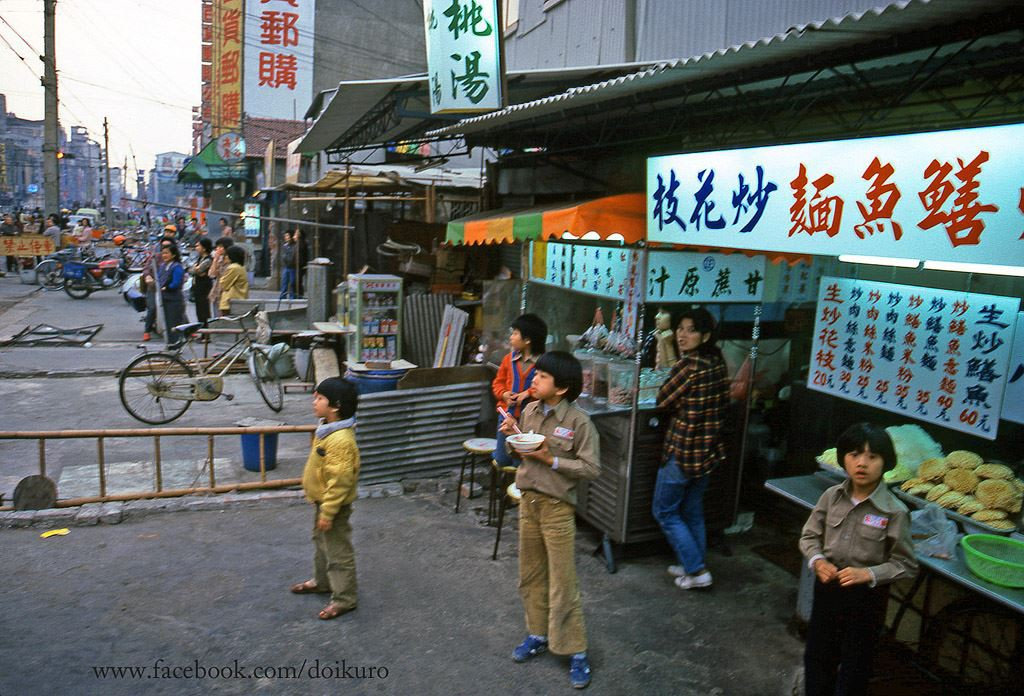people: (513, 352, 596, 678), (824, 422, 899, 688), (666, 304, 725, 596), (303, 377, 366, 619), (509, 309, 550, 475), (160, 245, 190, 349), (190, 230, 216, 332), (277, 226, 305, 309), (221, 244, 248, 329), (138, 268, 160, 344), (39, 216, 61, 257), (158, 217, 177, 258), (77, 212, 96, 249), (213, 213, 235, 241), (21, 209, 38, 241), (182, 209, 195, 238), (3, 212, 16, 236)
